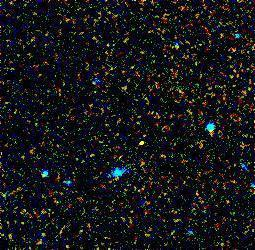star: (128, 130, 158, 160)
